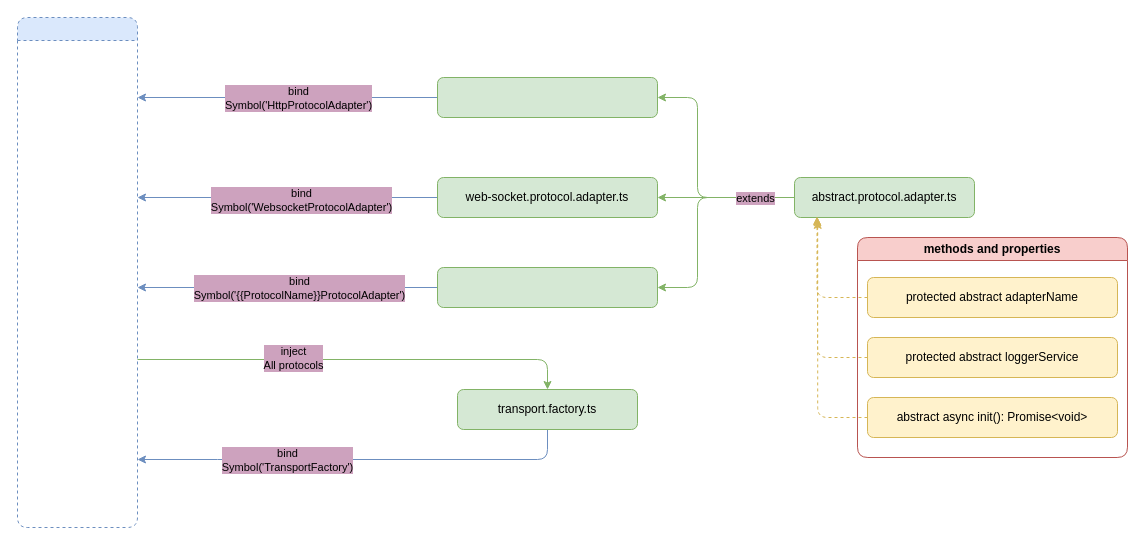
Some shapes in this 1145 by 545 pixel diagram are drawn without their labels. Each missing label, with the box of its shape:
http.protocol.adapter.ts: (436, 76, 658, 118)
ioc.core.ts: (16, 16, 138, 528)
{{protocol-name}}.protocol.adapter.ts: (436, 266, 658, 308)
